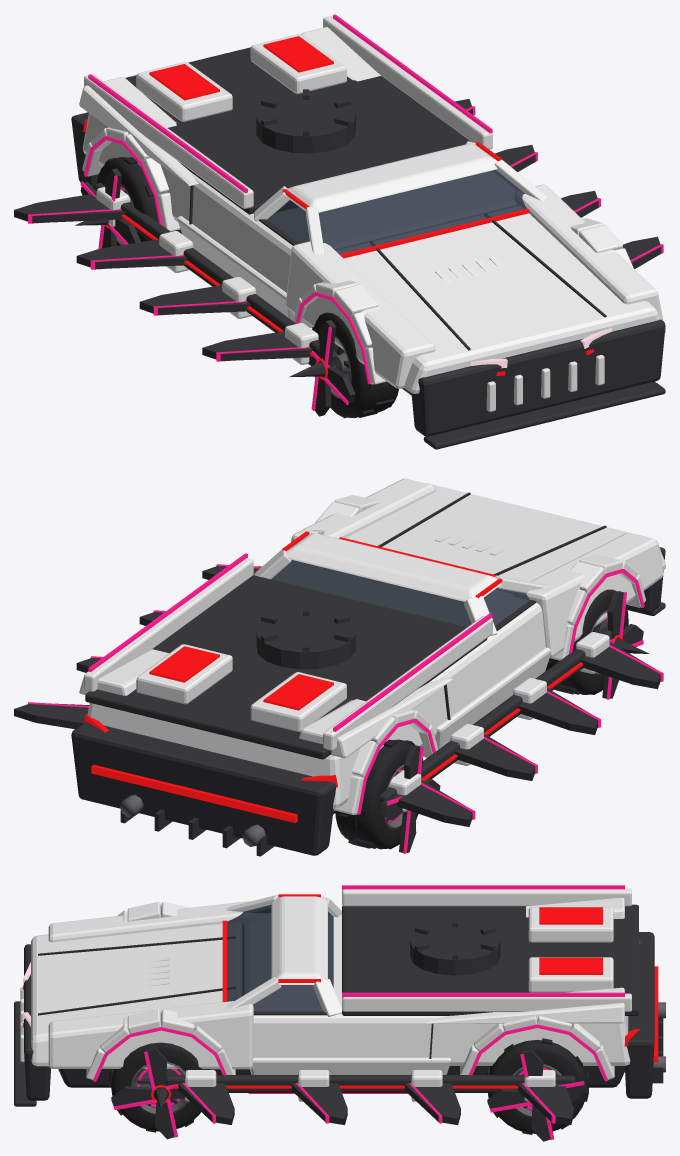
File: spiker_hero.glb
The picture shows the model from 3 angles, top to bottom: view 1: azimuth 30°, elevation 25°; view 2: azimuth 150°, elevation 25°; view 3: azimuth 270°, elevation 25°; orthographic projection. The views are drawn at different scales.
Parts seen in each view (by area): view 1: spiker_body, blades_L_mesh, wheel_FL_mesh, wheel_RL_mesh, blades_R_mesh; view 2: spiker_body, blades_L_mesh, wheel_RL_mesh, wheel_FL_mesh, blades_R_mesh; view 3: spiker_body, blades_R_mesh, wheel_FR_mesh, wheel_RR_mesh.
Boxes of the visible parts, box(x1,y1,x2,y2) form: spiker_body: box(71, 14, 665, 449); blades_L_mesh: box(14, 183, 319, 364); wheel_FL_mesh: box(289, 312, 398, 418); wheel_RL_mesh: box(75, 157, 181, 248); blades_R_mesh: box(455, 99, 663, 268); spiker_body: box(71, 478, 665, 856); blades_L_mesh: box(379, 629, 663, 826); wheel_RL_mesh: box(335, 739, 440, 853); wheel_FL_mesh: box(545, 589, 649, 699); blades_R_mesh: box(14, 564, 261, 729); spiker_body: box(14, 885, 665, 1106); blades_R_mesh: box(165, 1070, 575, 1125); wheel_FR_mesh: box(109, 1042, 212, 1139); wheel_RR_mesh: box(485, 1038, 588, 1141).
Bounding box in the file's own units: 3.35 × 1.11 × 4.61.
Materials: 6 (1 with a texture image).
